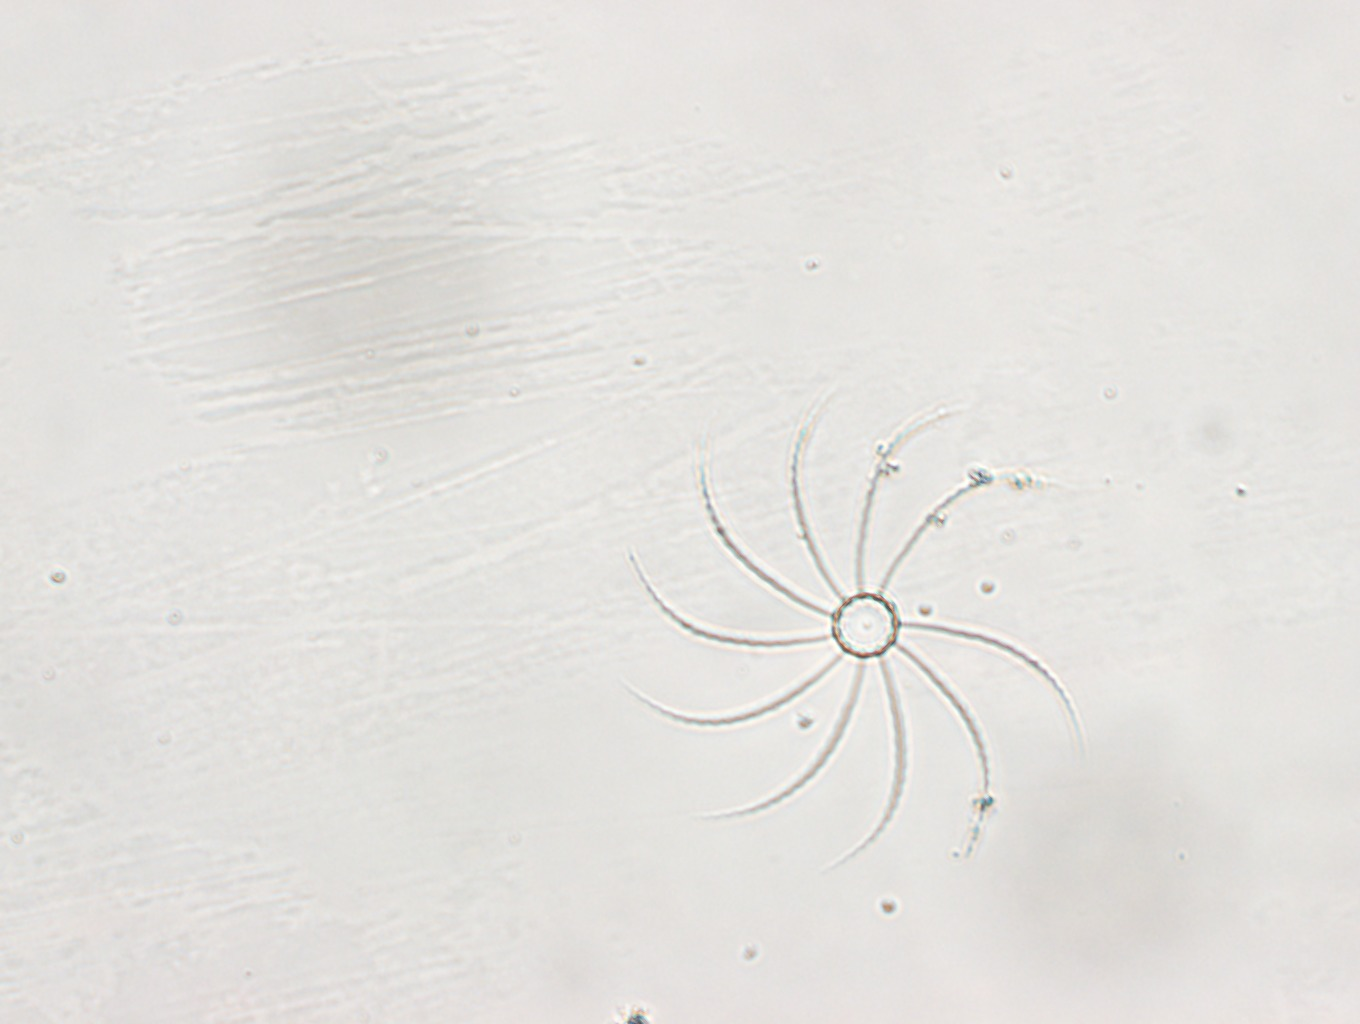bacteriastrum: (618, 392, 1088, 870)
